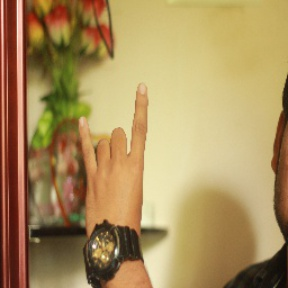V: (69, 80, 166, 237)
